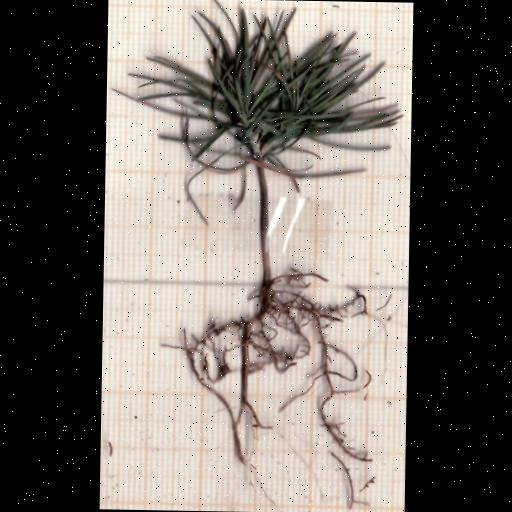flowerCedr: (113, 0, 403, 191)
rootCedr: (177, 270, 367, 464)
stemCedr: (256, 167, 271, 282)
